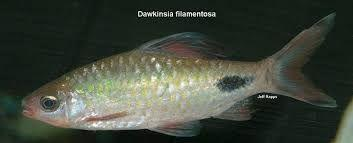Black Spotted Barb: (22, 11, 340, 139)
